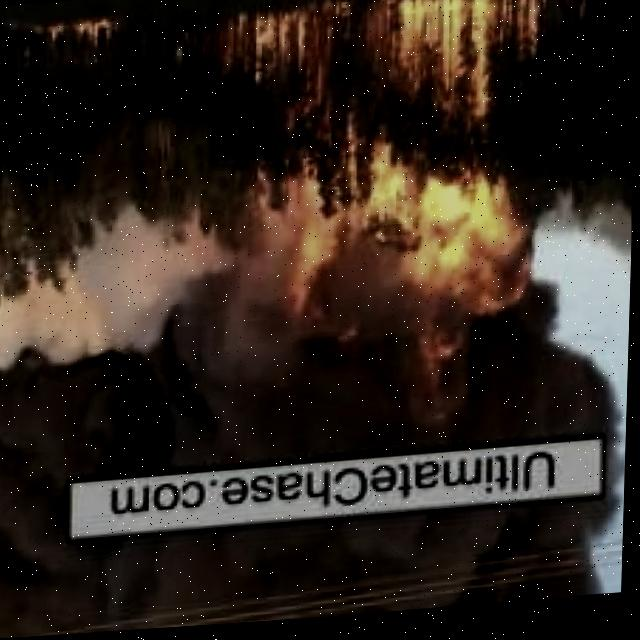Fire: (200, 0, 535, 391), (15, 18, 126, 61)
Smoke: (0, 339, 618, 476), (0, 505, 621, 640), (0, 202, 206, 376)
